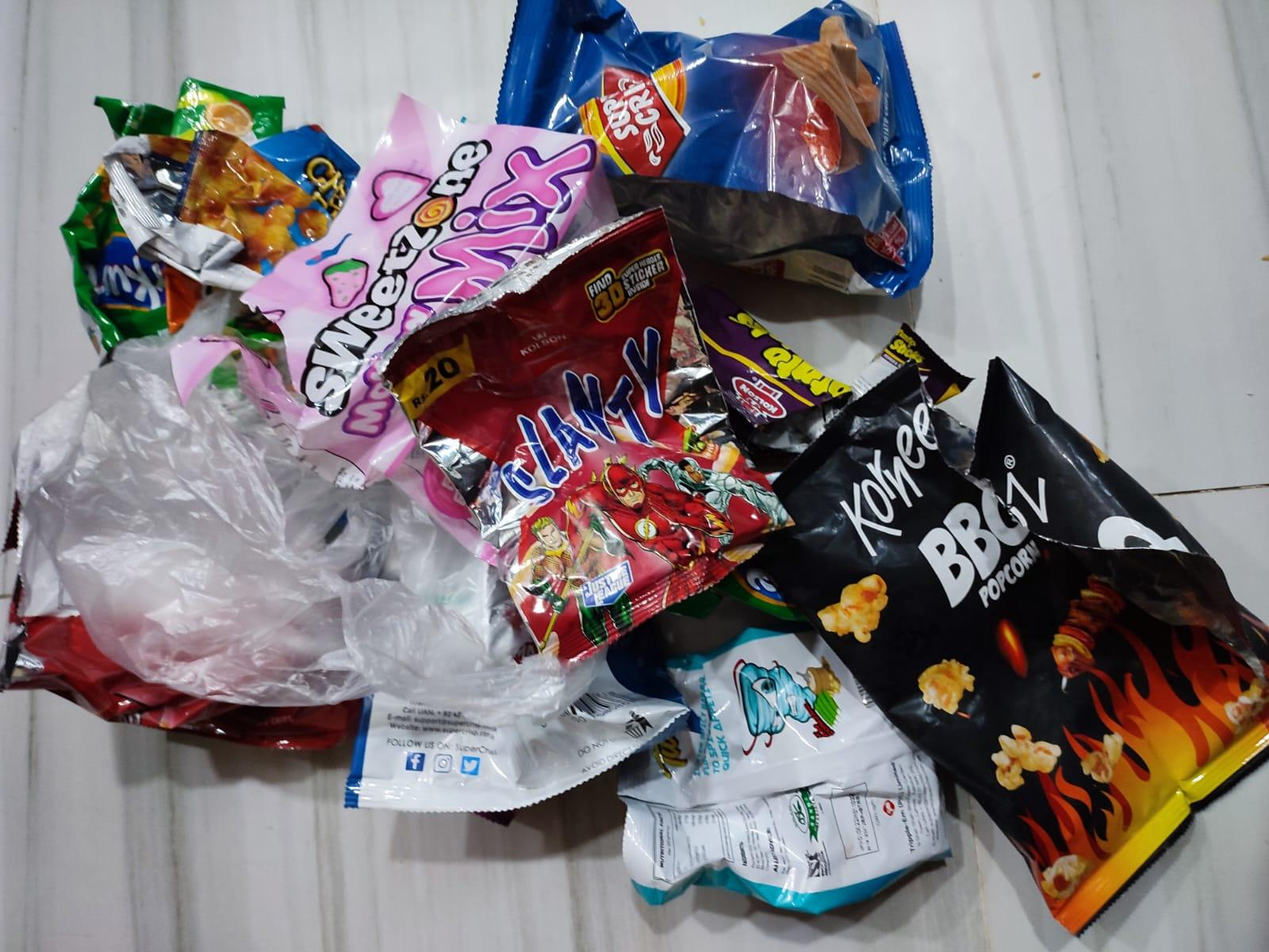garbage: (0, 0, 1266, 952)
